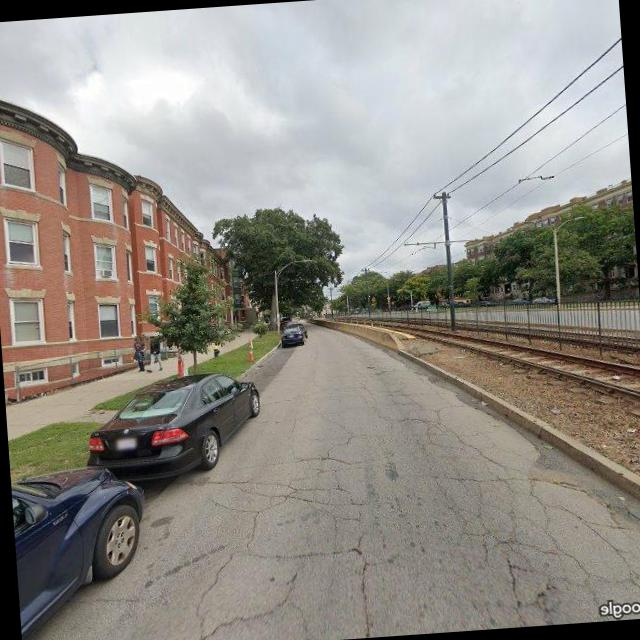crack: (162, 369, 640, 640)
